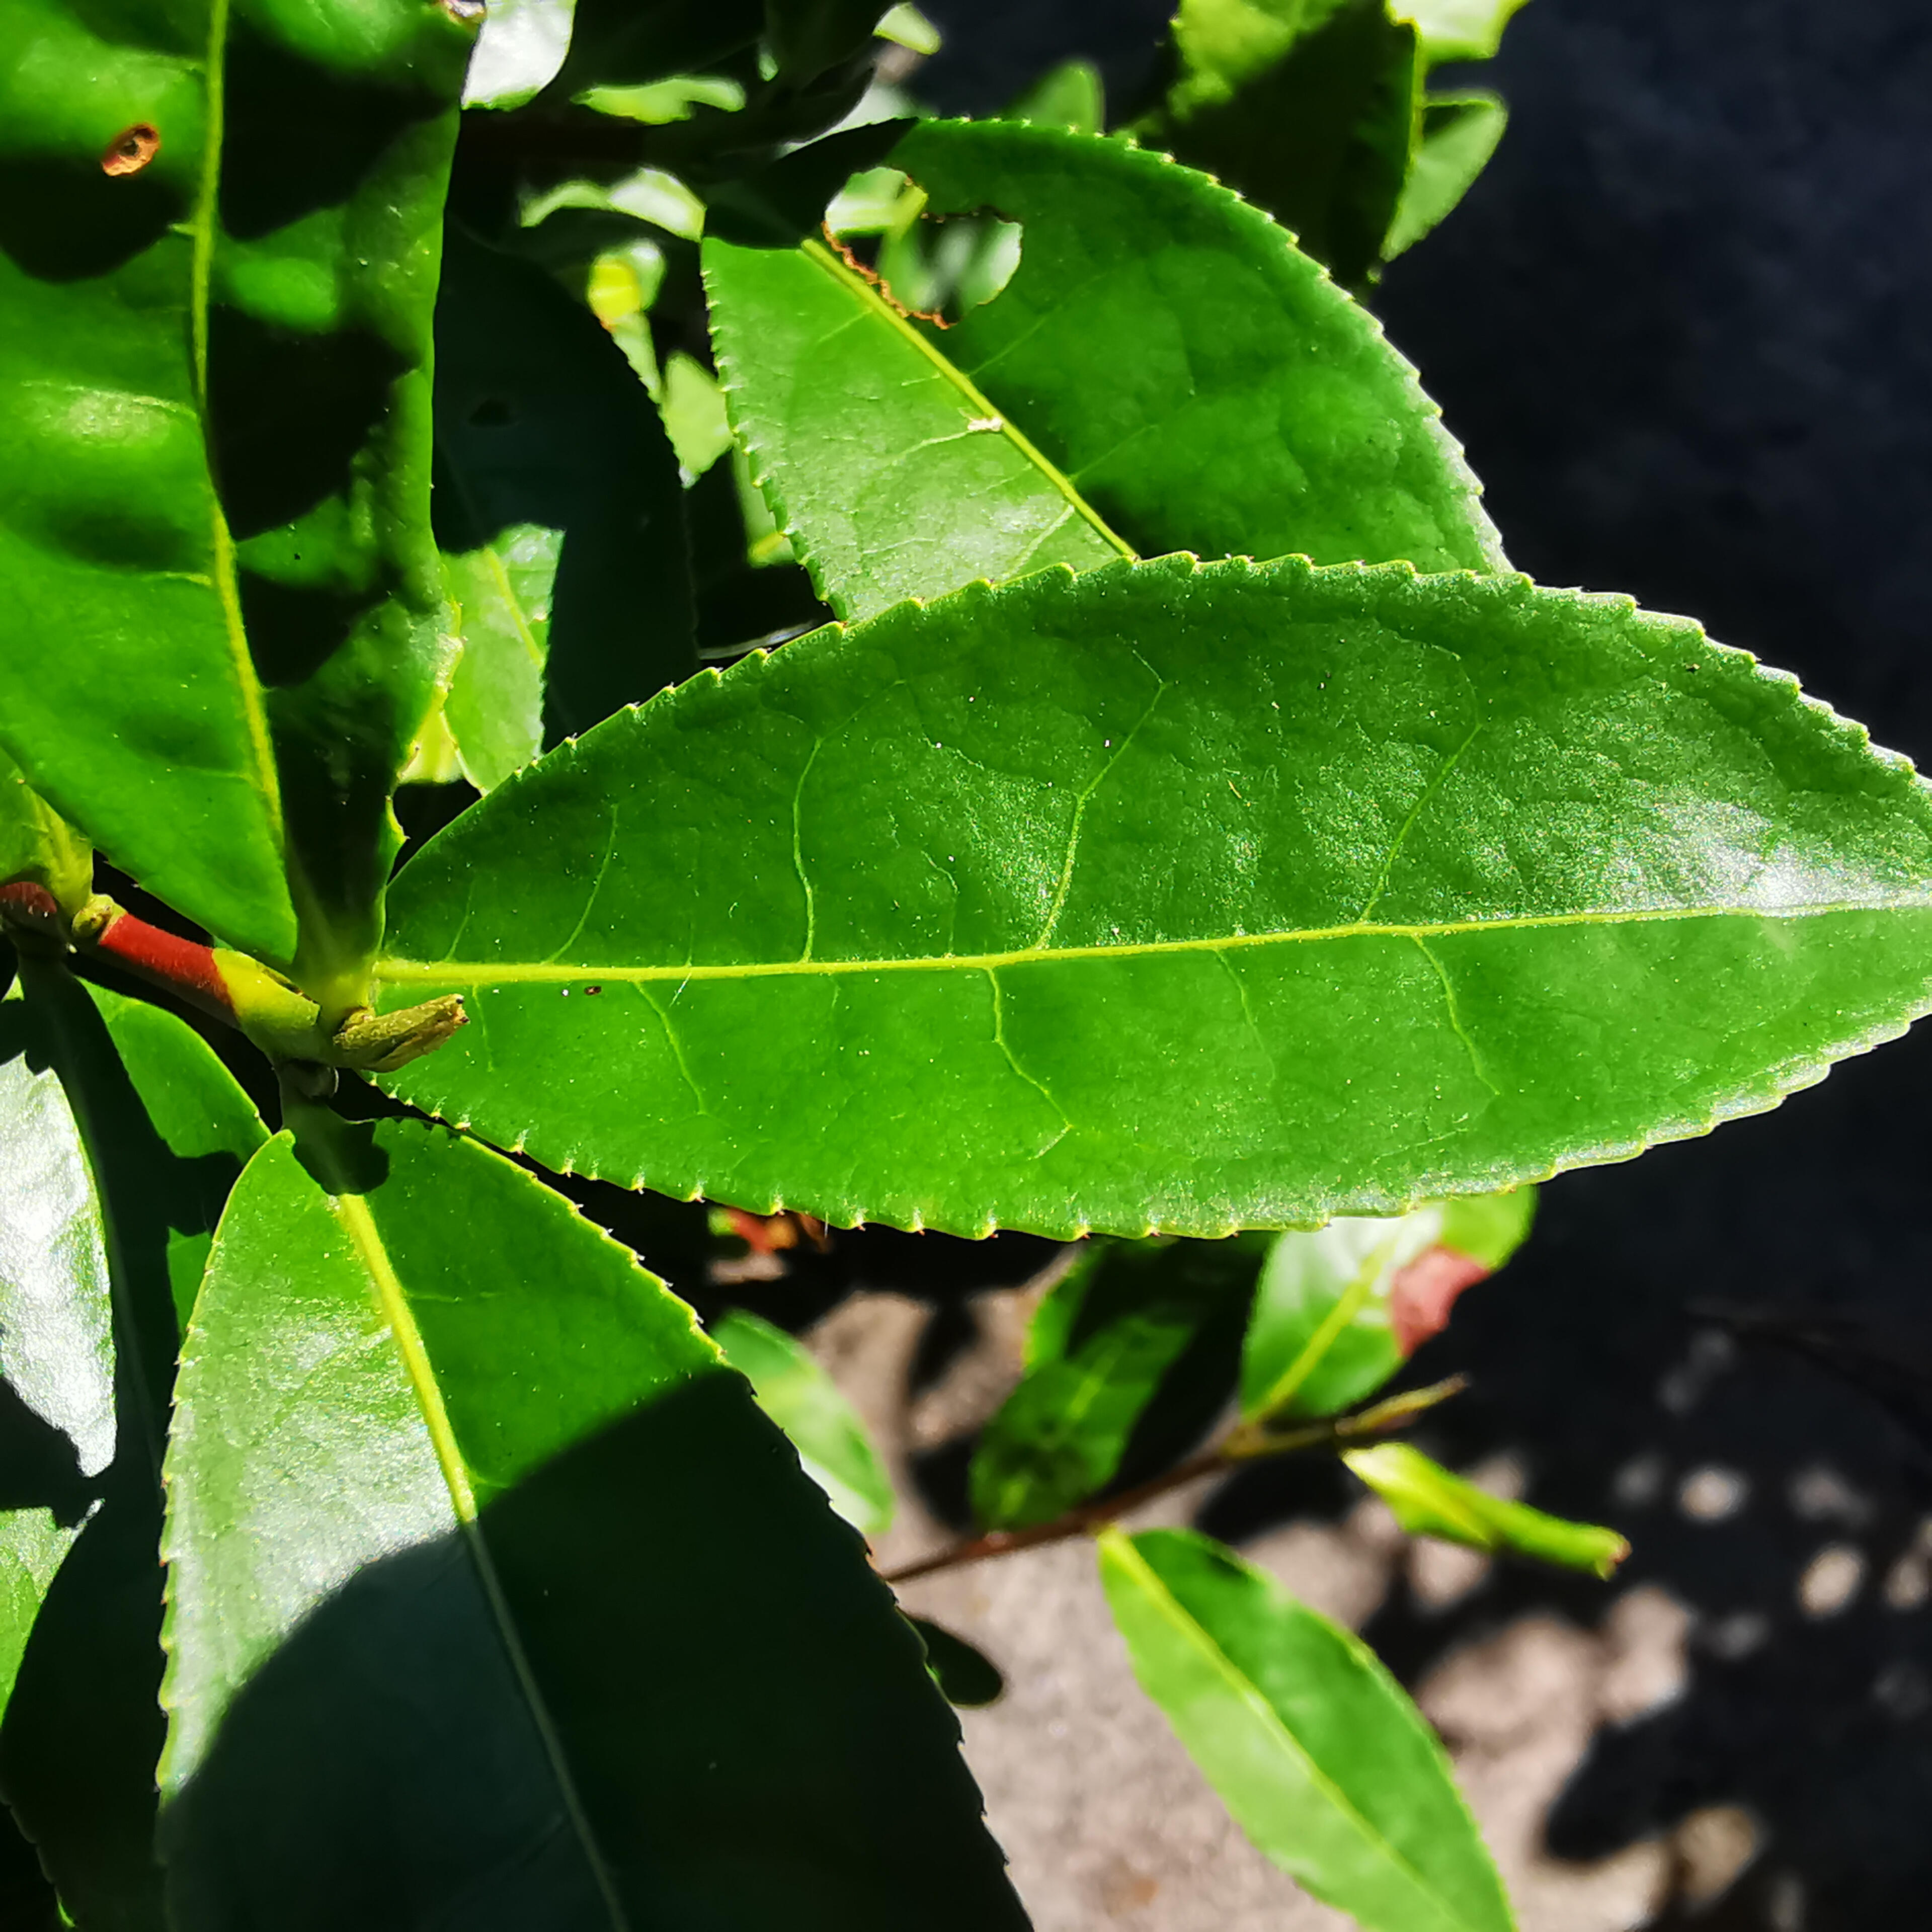chihuo_high: (699, 115, 1520, 633)
healthy: (356, 543, 1925, 1246), (1099, 1523, 1514, 1930)
tanju_high: (1242, 1184, 1539, 1424)
tanju_low: (5, 2, 488, 1001)
